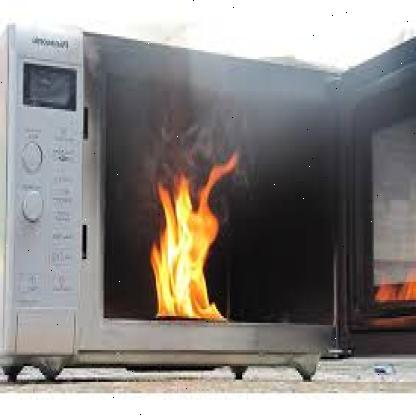fire: (143, 155, 235, 327)
